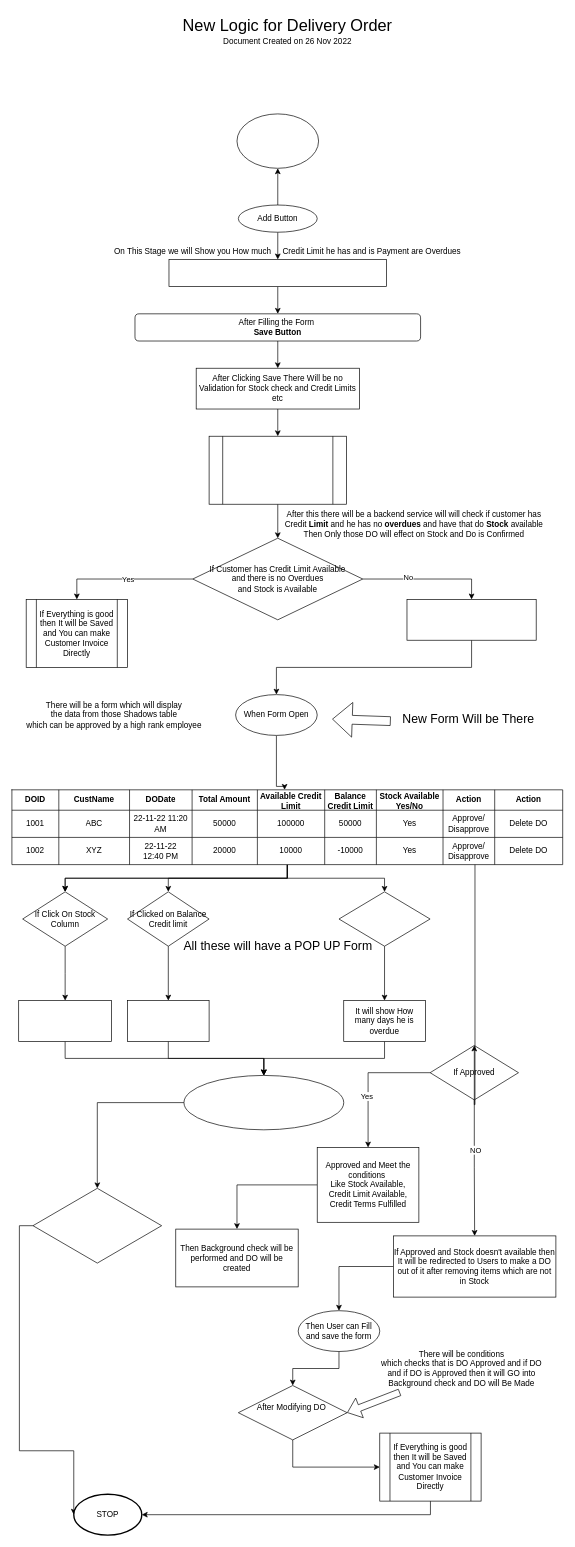
The diagram is 575 pixels wide and 1547 high, and some of its shapes have lost their labels. Here are the shapes that lost their labels. From the top down, the centre of each, then its label:
At [277,140]: "Start".
At [277,273]: "Fill Details of Customer and Add Items From POIn".
At [277,470]: "Then this data will be saved in Shadows table".
At [471,619]: "This DO will be there in that form for Approval".
At [384,918]: "if Click on Credit Terms Column".
At [65,1020]: "It will show you the items details and If Stock is there or not".
At [168,1020]: "It Will show you how many bill are there".
At [263,1102]: "If not approved then it will be here until we delete or approve it".
At [97,1225]: "if Deleted then PO will be made against it".
